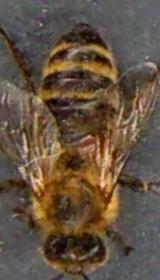varroa_mite: (70, 131, 104, 156)
